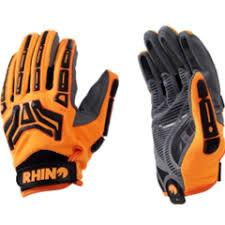gloves: (1, 28, 120, 198), (136, 26, 225, 203)
